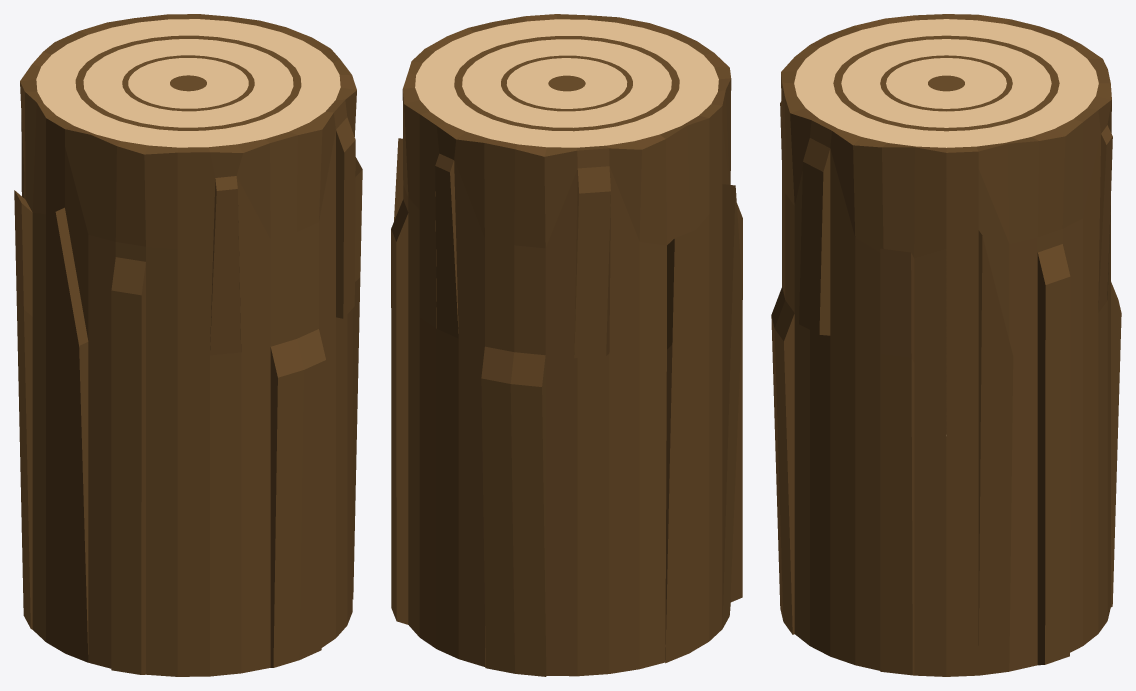
The model's file is trunk2.fbx.
3 renders of one model, left to right at view 1: azimuth 30°, elevation 25°; view 2: azimuth 150°, elevation 25°; view 3: azimuth 270°, elevation 25°, orthographic.
Parts seen in each view (by area): view 1: Cylinder.002, Cylinder.003; view 2: Cylinder.003, Cylinder.002; view 3: Cylinder.003, Cylinder.002.
Boxes of the visible parts, x1=… form: Cylinder.002: x1=46, y1=48, x2=362, y2=676; Cylinder.003: x1=14, y1=14, x2=330, y2=641; Cylinder.003: x1=391, y1=49, x2=709, y2=676; Cylinder.002: x1=425, y1=14, x2=742, y2=640; Cylinder.003: x1=946, y1=14, x2=1121, y2=676; Cylinder.002: x1=771, y1=14, x2=946, y2=676.
Size of the model in its own units: 212 by 354 by 213.
